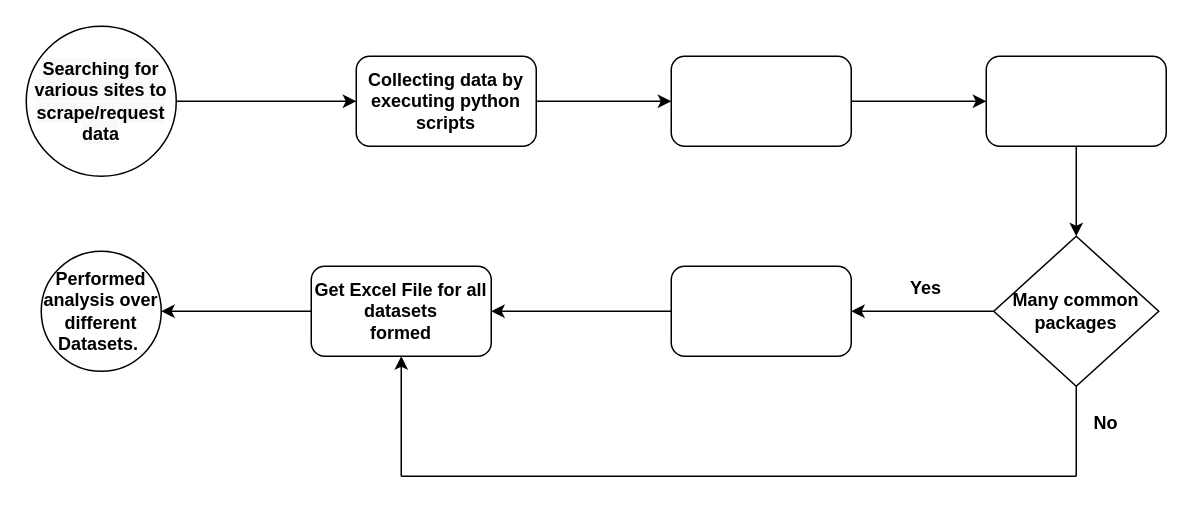
The diagram is 1193 pixels wide and 515 high, and some of its shapes have lost their labels. Each missing label, with the centre of its shape:
"Finding number of common packages between two different data" goes at (x=1075, y=100).
"Parsing data to convert into structured/required format" goes at (x=760, y=100).
"Write a script to merge those datasets" goes at (x=760, y=310).
